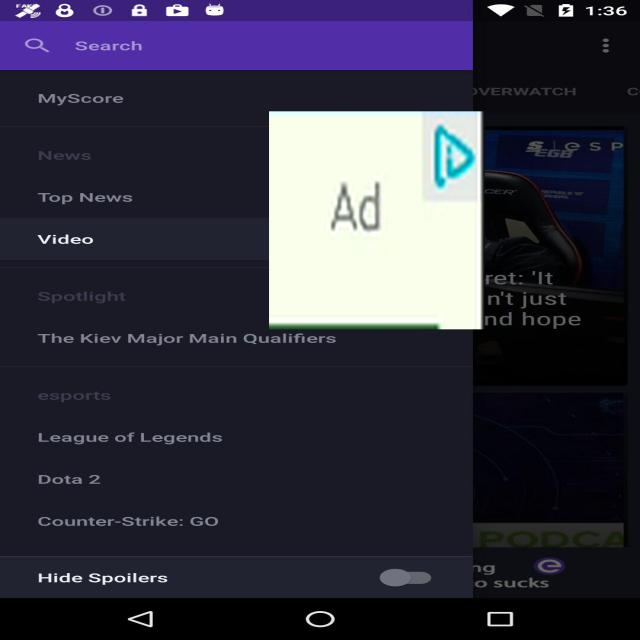sneaking: (269, 112, 485, 330)
